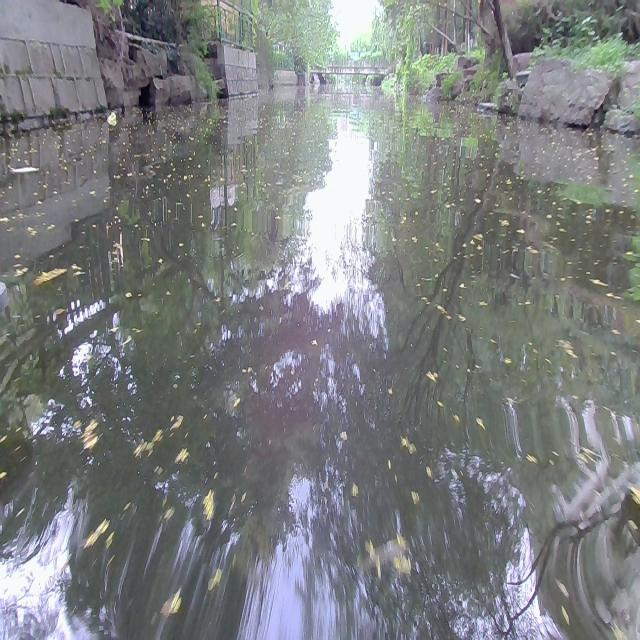bottle: (106, 112, 116, 124)
